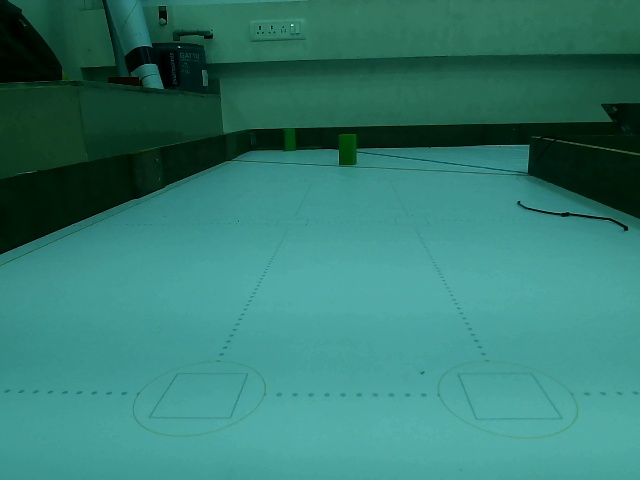green: (339, 134, 357, 166)
